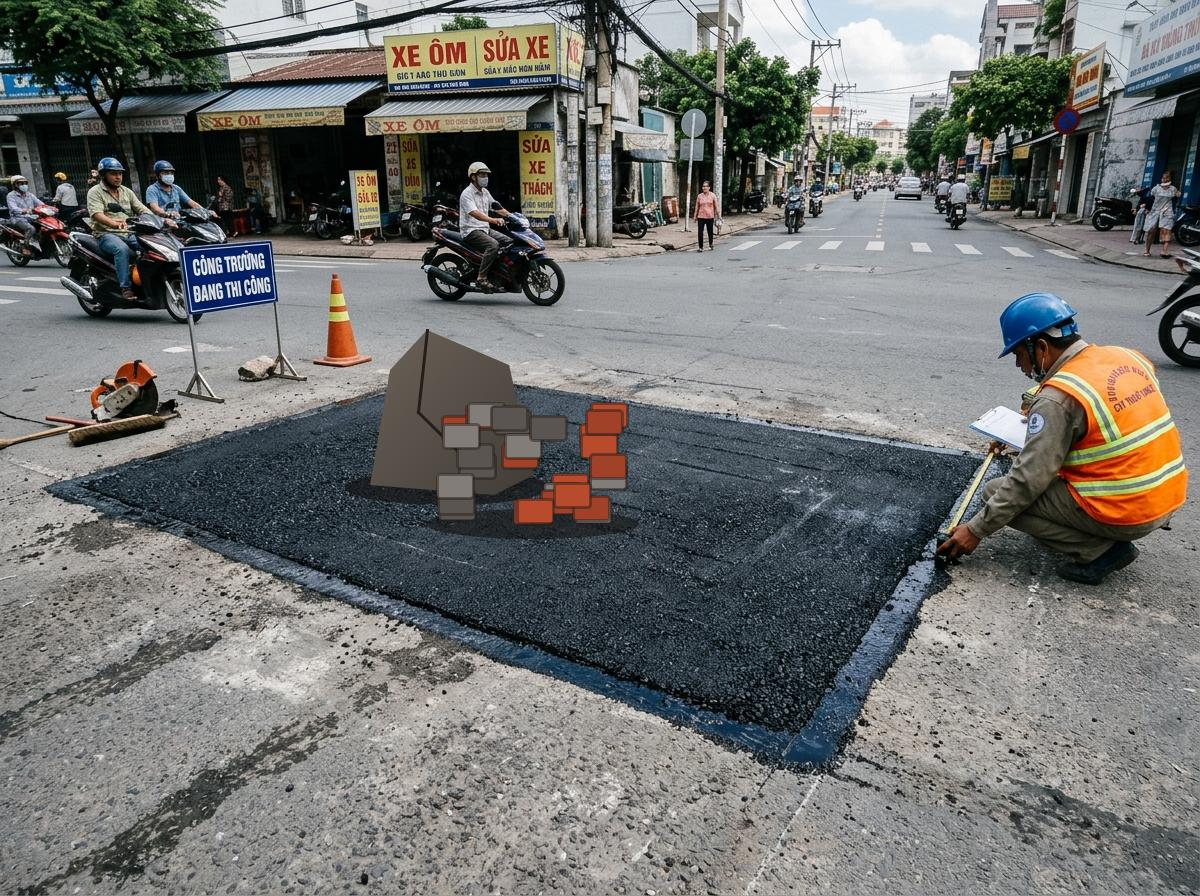ROAD_OBSTACLE: (330, 300, 640, 540)
